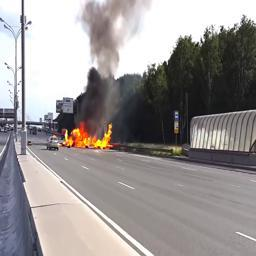fire: (63, 122, 115, 149)
